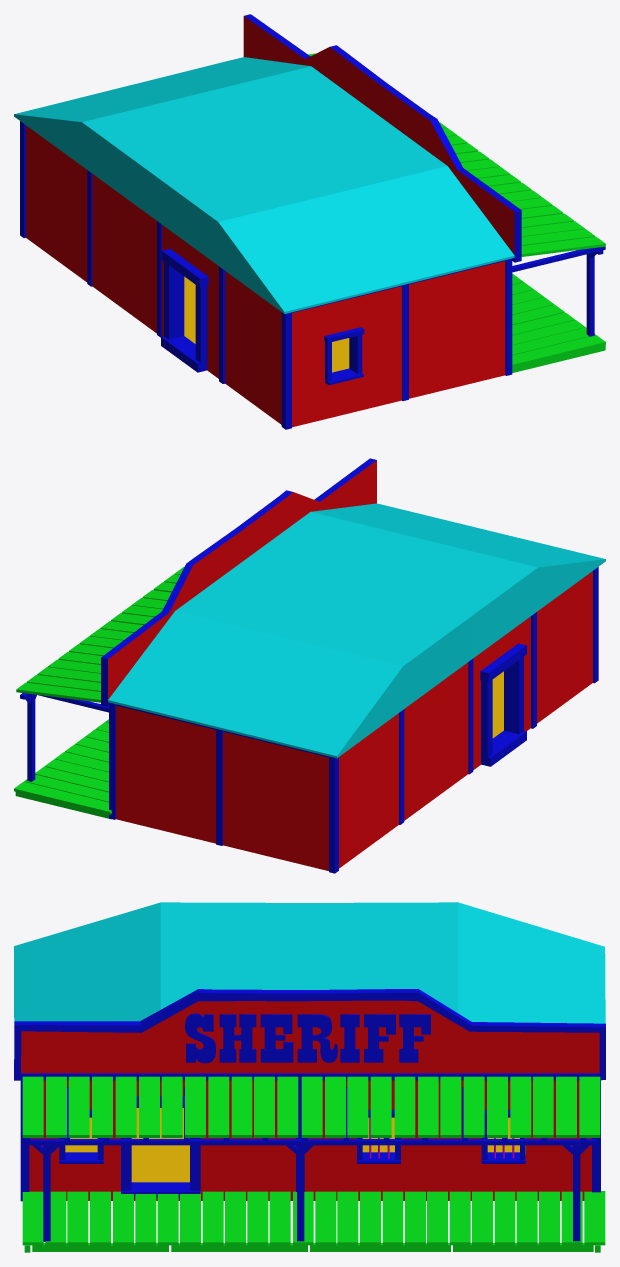
File: Sheriff Office.fbx
3 renders of one model, top to bottom at view 1: azimuth 30°, elevation 25°; view 2: azimuth 150°, elevation 25°; view 3: azimuth 270°, elevation 25°, orthographic. The views are drawn at different scales.
Visible parts, largest first — view 1: structure.001; view 2: structure.001; view 3: structure.001.
Part boxes in pixels (bbox=[...]): structure.001: bbox=[14, 14, 605, 429]; structure.001: bbox=[14, 458, 605, 873]; structure.001: bbox=[14, 902, 605, 1252].
Size of the model in its own units: 1266 by 715 by 1804.
